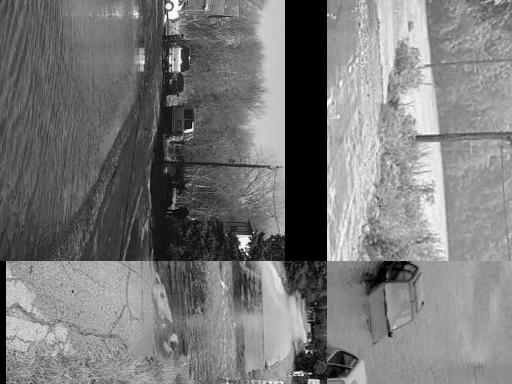road_waterlogging: (0, 0, 123, 173), (466, 261, 512, 384), (169, 261, 243, 335), (418, 104, 448, 207), (388, 344, 445, 384), (395, 0, 429, 57)
